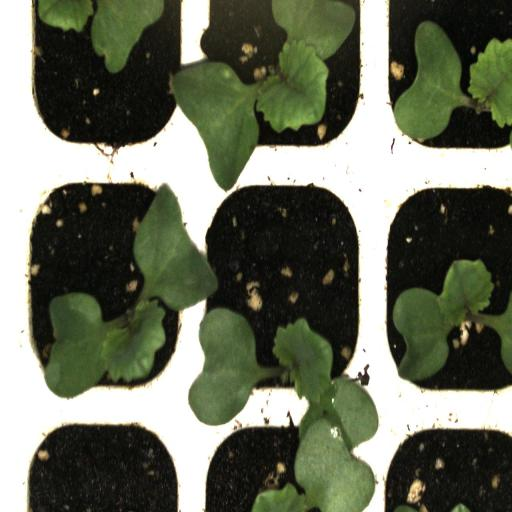Folha: (38, 0, 168, 74)
Germinacao: (194, 168, 376, 424), (14, 167, 190, 405), (376, 168, 512, 412), (192, 0, 374, 176), (376, 0, 512, 174)
